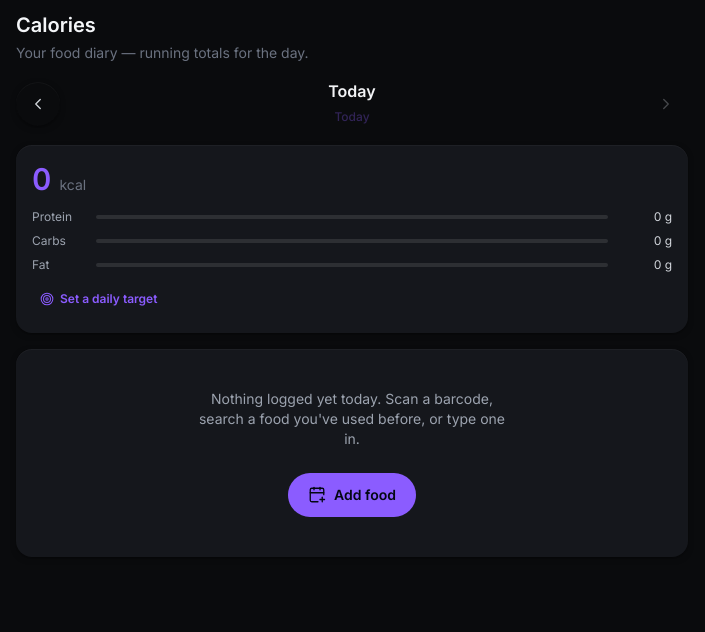
Test case: CaloriesPanel › no target → the diary offers to set one; saving shows remaining
// No target yet → plain totals + the "set one" affordance.
Click the button with test id "set-target-btn". click: click(99, 299)
box: [32,281,166,317]
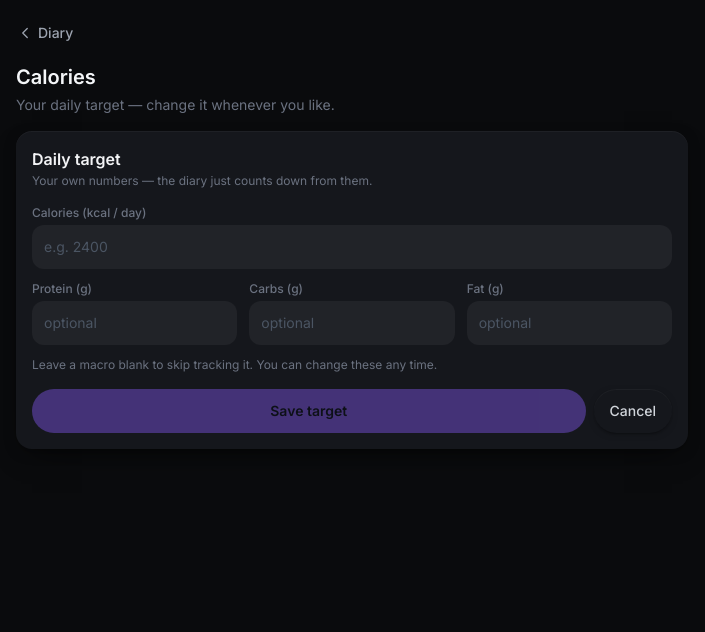
Type "2000" into the field with test id "te-kcal". click: (352, 247)
box: [32,225,672,269]
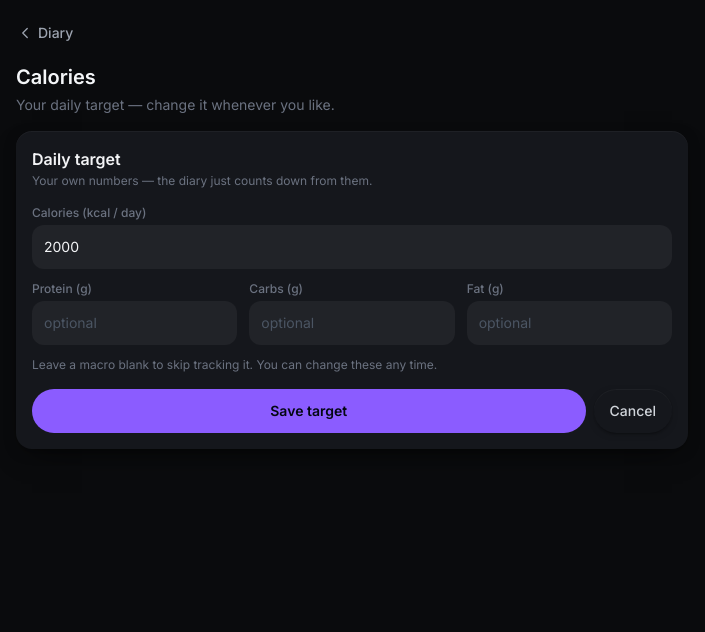
Type "150" into the field with test id "te-protein". click: (135, 323)
box: [32,301,237,345]
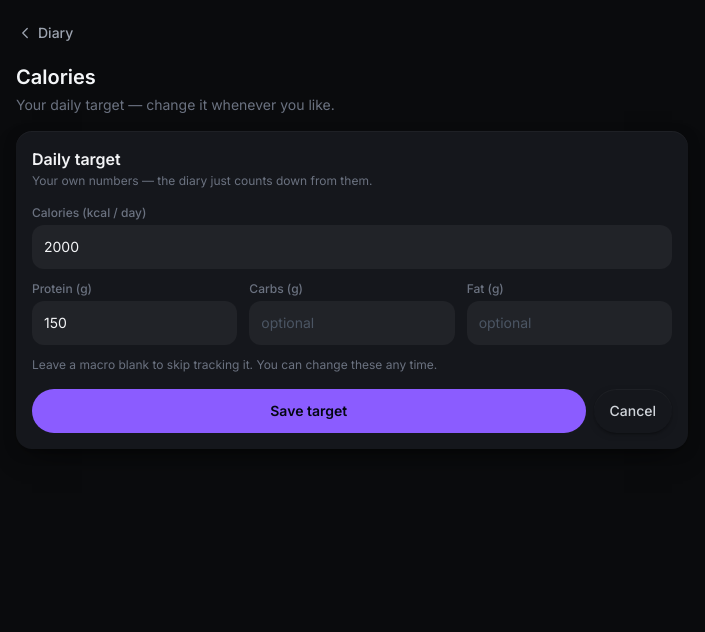
Click the button with test id "te-save". click: click(309, 411)
box: [32,389,586,433]
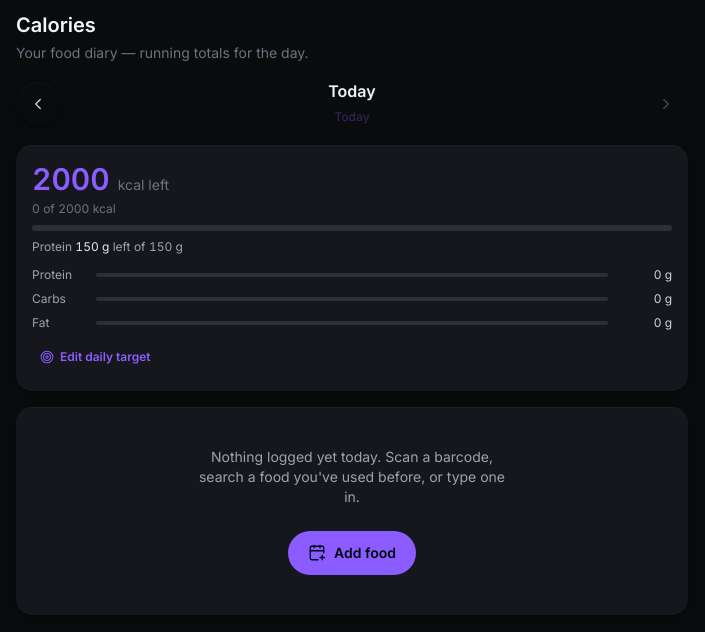
Result: the text with test id "remaining-kcal" reads "2000" at [32,161,110,197]
Result: the element with test id "remaining-protein" shows "150 g left" at [32,239,183,254]
